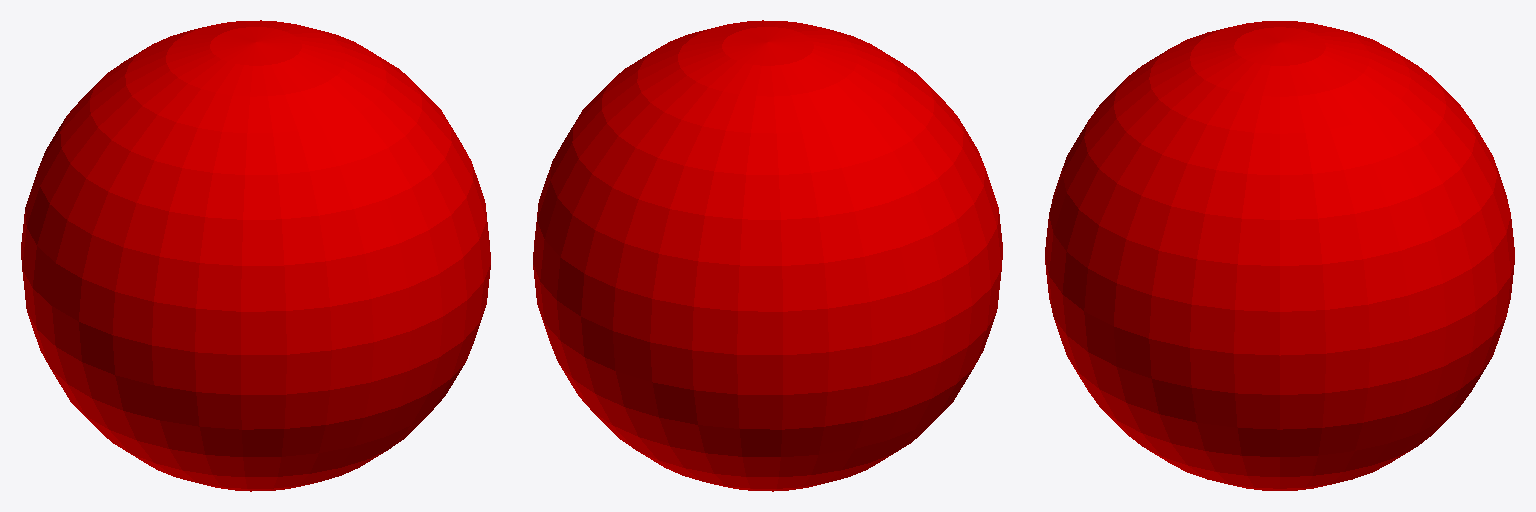
robot.urdf — ball:
<robot name="ball">

    <material name="color">
        <color rgba="0.8980392156862745 0.0 0.0 1.0" />
    </material>

	<link name="base_link">
		<visual>
			<geometry>
				<sphere radius="0.6"/>
			</geometry>
			<material name="color"/>
		</visual>
		<collision>
			<geometry>
				<sphere radius="0.6"/>
			</geometry>		
		</collision>
		<inertial>
			<mass value = "1"/>
			<inertia
				ixx = "0.6667"
				ixy = "0"
				ixz = "0"
				iyy = "0.6667"
				iyz = "0"
				izz = "0.6667"
			/>	
		</inertial>
	</link>	

</robot>

--- Render facts (derived) ---
The picture shows the robot from 3 angles, left to right: view 1: azimuth 30°, elevation 25°; view 2: azimuth 150°, elevation 25°; view 3: azimuth 270°, elevation 25°; orthographic projection.
Robot: ball — 1 links, 0 joints (none); root link base_link; default pose: every joint at zero.
Visible links, largest first — view 1: base_link; view 2: base_link; view 3: base_link.
Boxes of the visible links, x1,y1,x2,y2 form: base_link: (21, 20, 490, 491); base_link: (533, 20, 1002, 491); base_link: (1045, 21, 1514, 490).
Bounding box of the posed robot: 1.2 × 1.2 × 1.2 m (x, y, z).
Geometry: primitives only (box / cylinder / sphere), no mesh files.